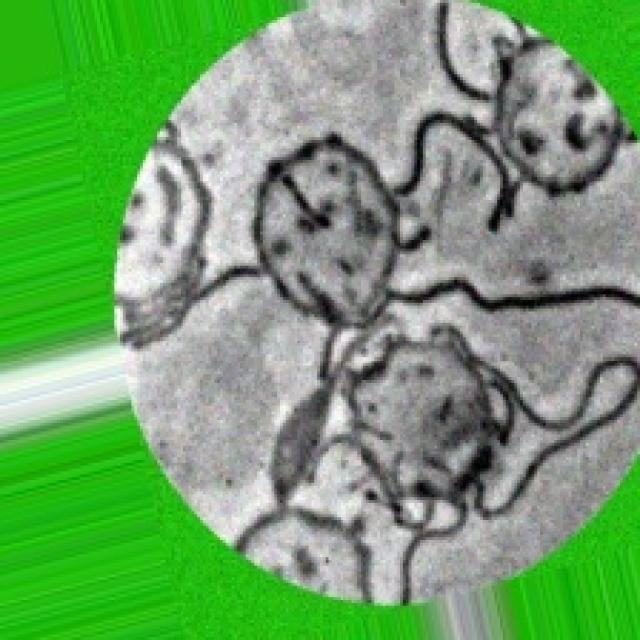Spiral_bacteria: (109, 0, 637, 609)
